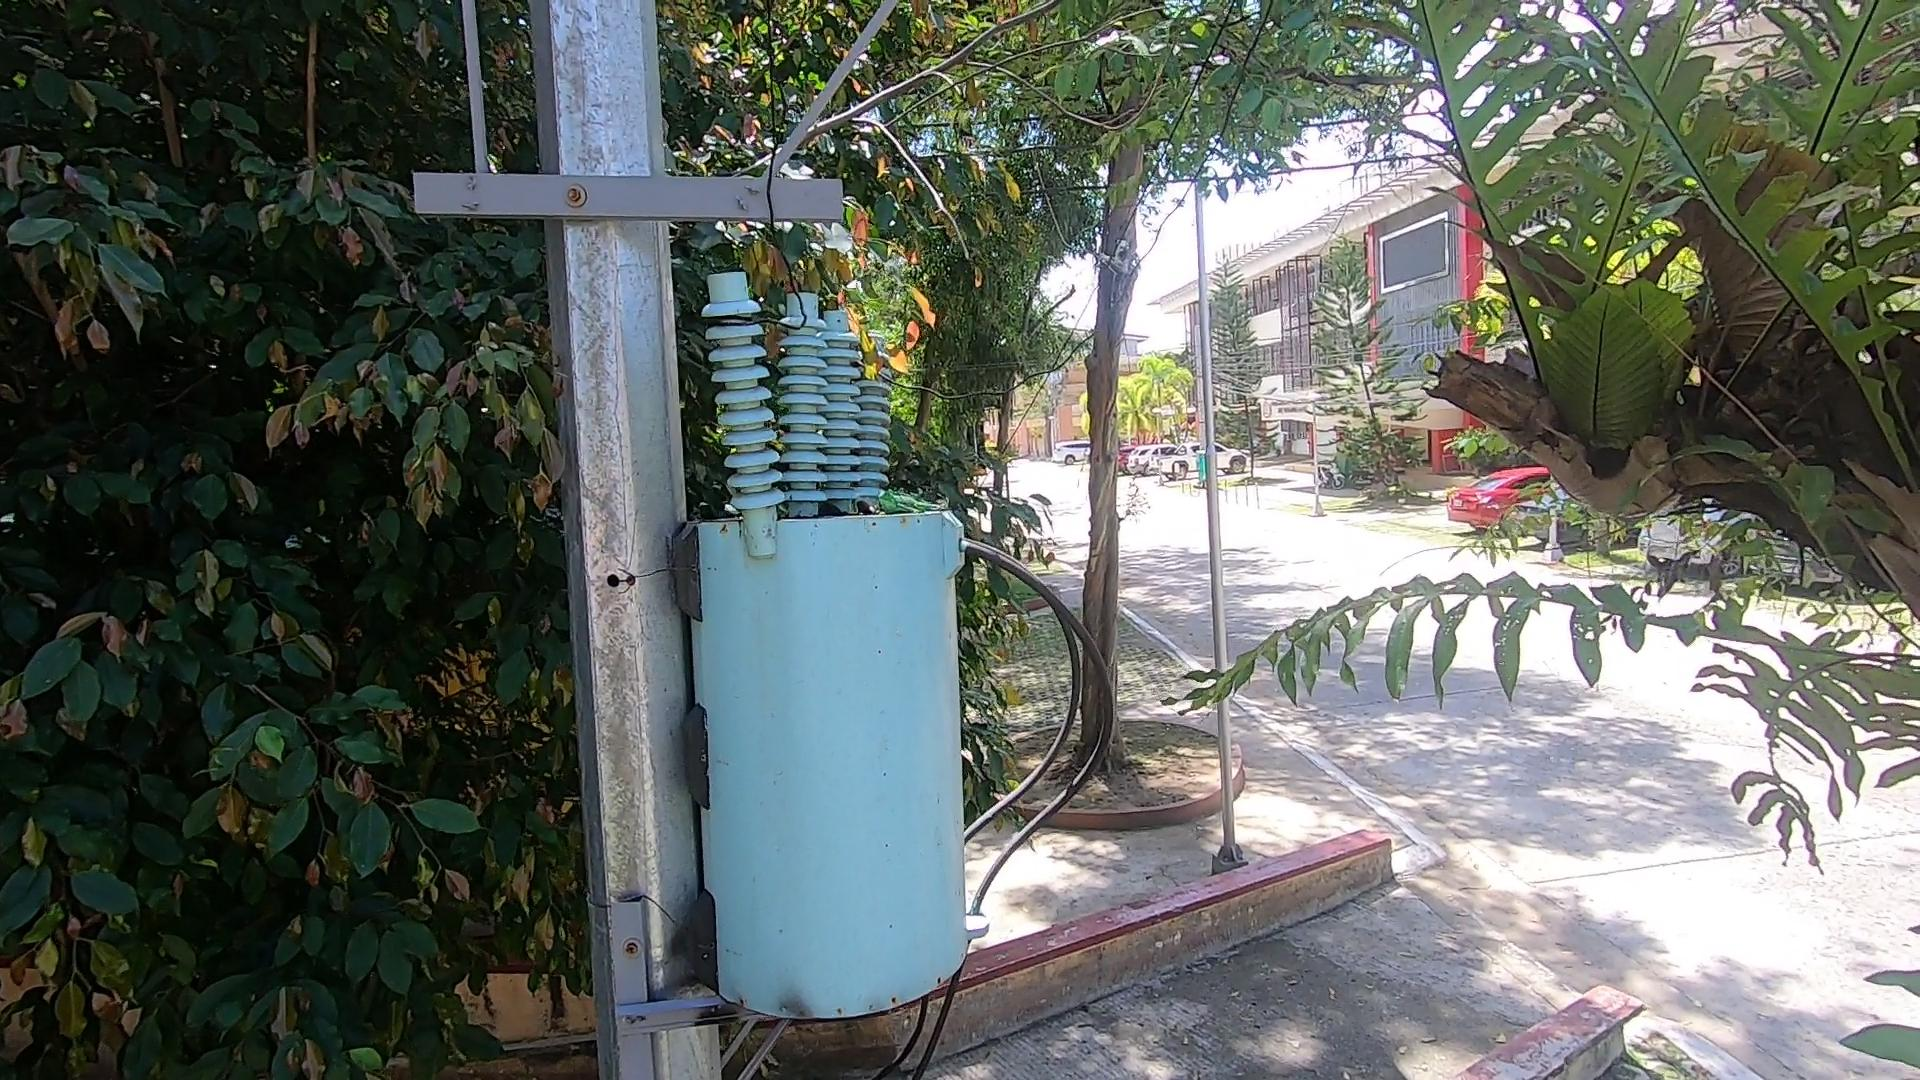leaf: (856, 496, 886, 516), (818, 505, 848, 517)
tree branch: (724, 1, 1220, 278)
